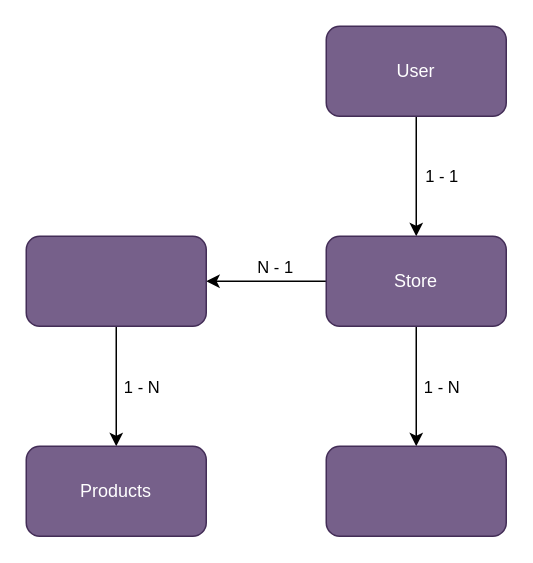
Image size: 533x563. Some labels were removed from this diagram. The box of each missing label's shape, as (x1, y1, x2, y2) in pixels:
Categories: (25, 235, 206, 326)
Sales: (325, 445, 506, 536)
